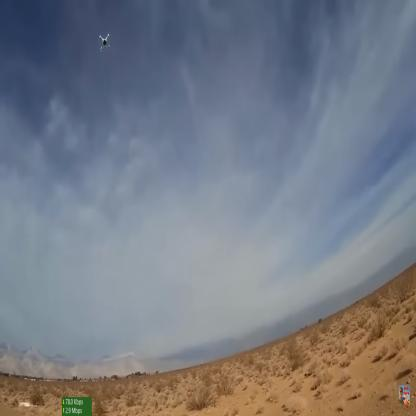drone: (97, 28, 115, 54)
